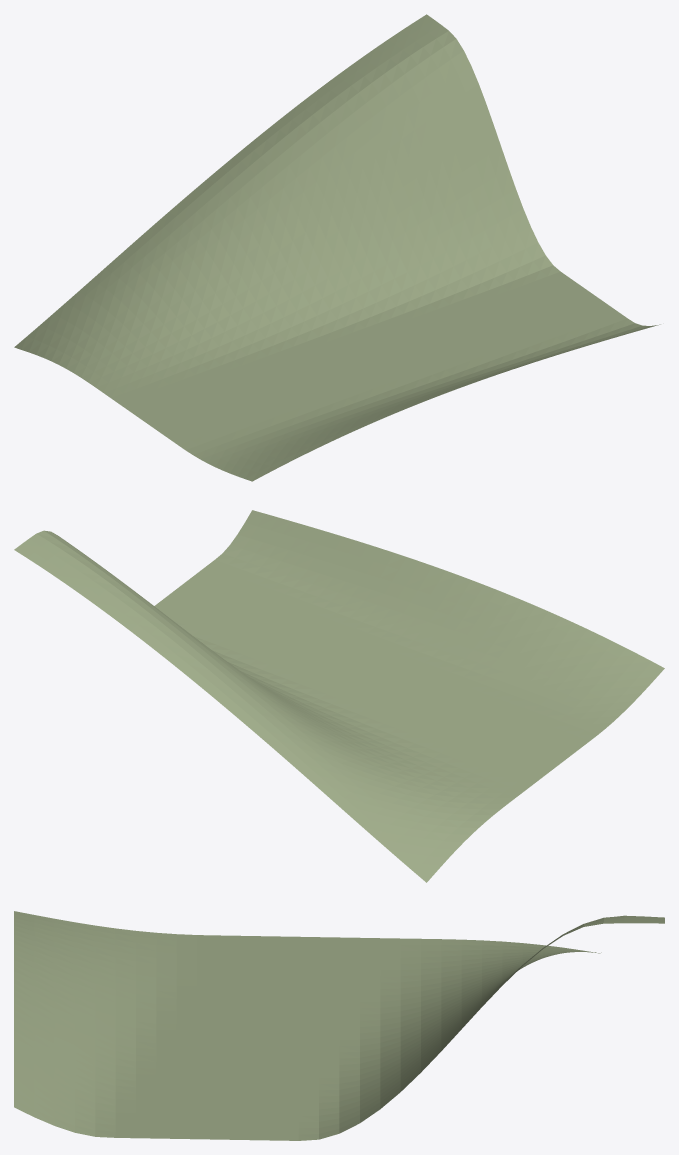
Rendered from alpine-8-2.glb.
The picture shows the model from 3 angles, top to bottom: view 1: azimuth 30°, elevation 25°; view 2: azimuth 150°, elevation 25°; view 3: azimuth 270°, elevation 25°; orthographic projection. The views are drawn at different scales.
Visible parts, largest first — view 1: alpine-8-2; view 2: alpine-8-2; view 3: alpine-8-2.
Boxes of the visible parts, left/top/right/bottom form: alpine-8-2: left=14, top=14, right=660, bottom=481; alpine-8-2: left=14, top=510, right=664, bottom=882; alpine-8-2: left=14, top=911, right=664, bottom=1140.
Size of the model in its own units: 256 by 138 by 256.
